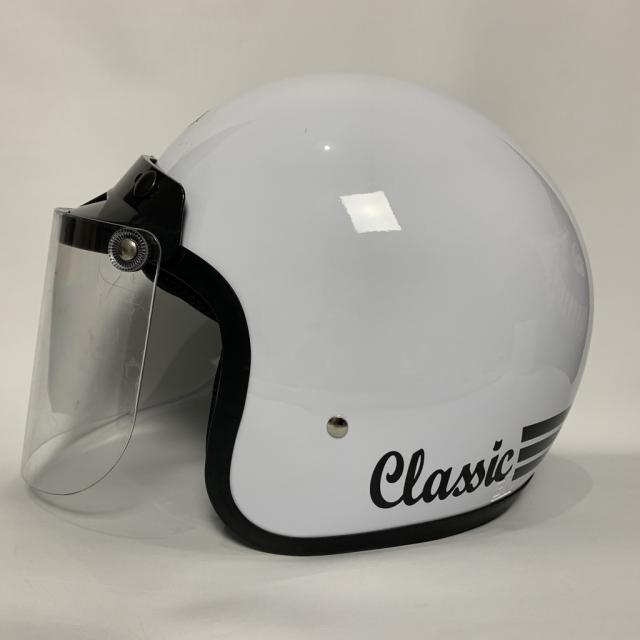Helm: (13, 79, 599, 558)
